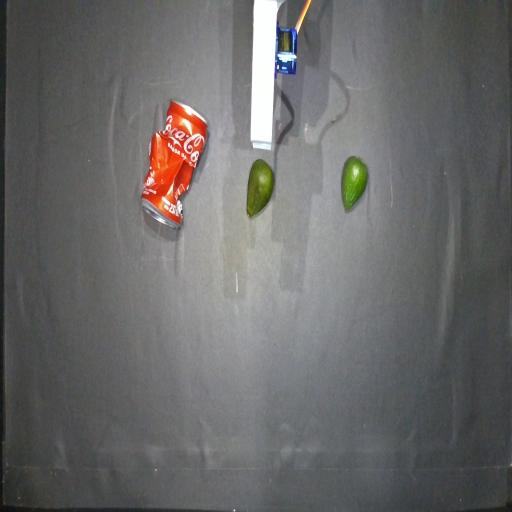higo: (246, 159, 274, 217), (342, 156, 368, 210)
lata_defectuoso: (141, 101, 207, 228)
